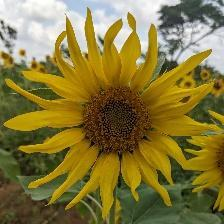sunflower: (5, 7, 217, 220)
